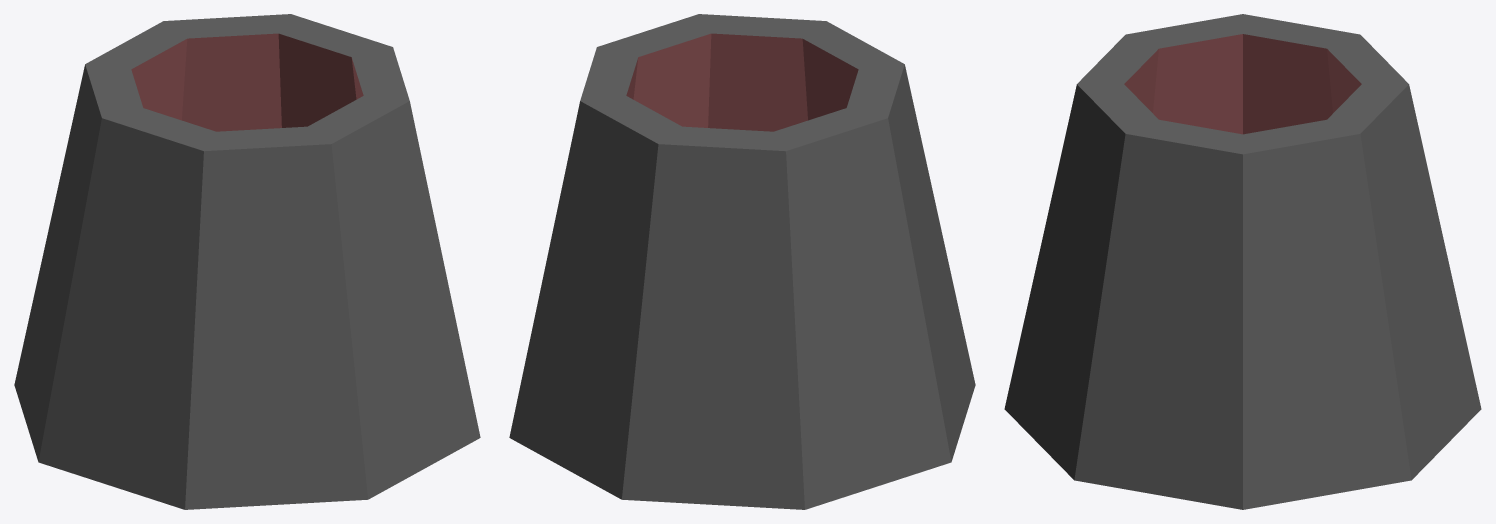
File: Śmietnik1.fbx
The picture shows the model from 3 angles, left to right: view 1: azimuth 30°, elevation 25°; view 2: azimuth 150°, elevation 25°; view 3: azimuth 270°, elevation 25°; orthographic projection.
Parts seen in each view (by area): view 1: Circle; view 2: Circle; view 3: Circle.
Part boxes in pixels (x1=…): Circle: x1=14, y1=14, x2=480, y2=509; Circle: x1=509, y1=14, x2=975, y2=509; Circle: x1=1004, y1=14, x2=1481, y2=509.
Size of the model in its own units: 78.84 by 59.26 by 78.84.
